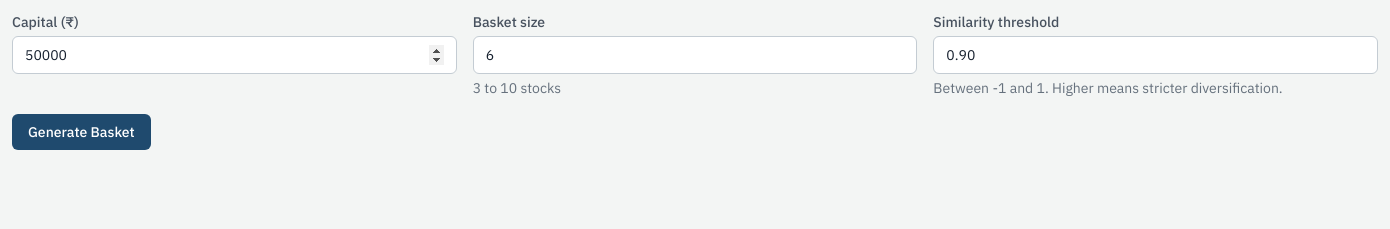
Test: BasketForm › warns that a basket the size of the universe makes selection meaningless
Replace the text in the number field labelled "Basket size" with "10". click: (695, 55)
box: [473,36,917,74]
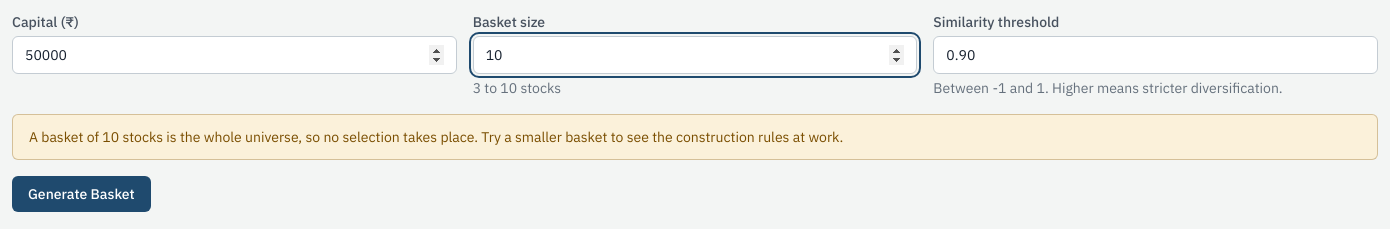
Result: the text "whole universe" is shown at [119,128,843,146]
